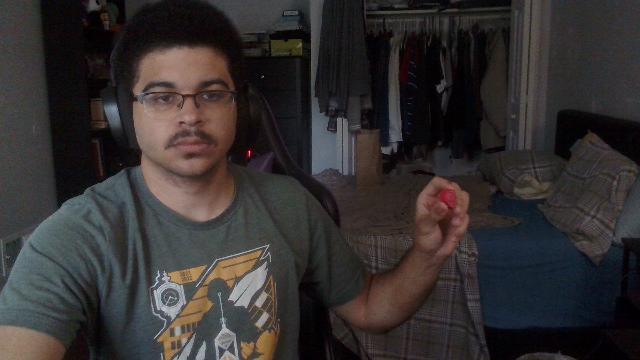cap: (439, 189, 457, 209)
